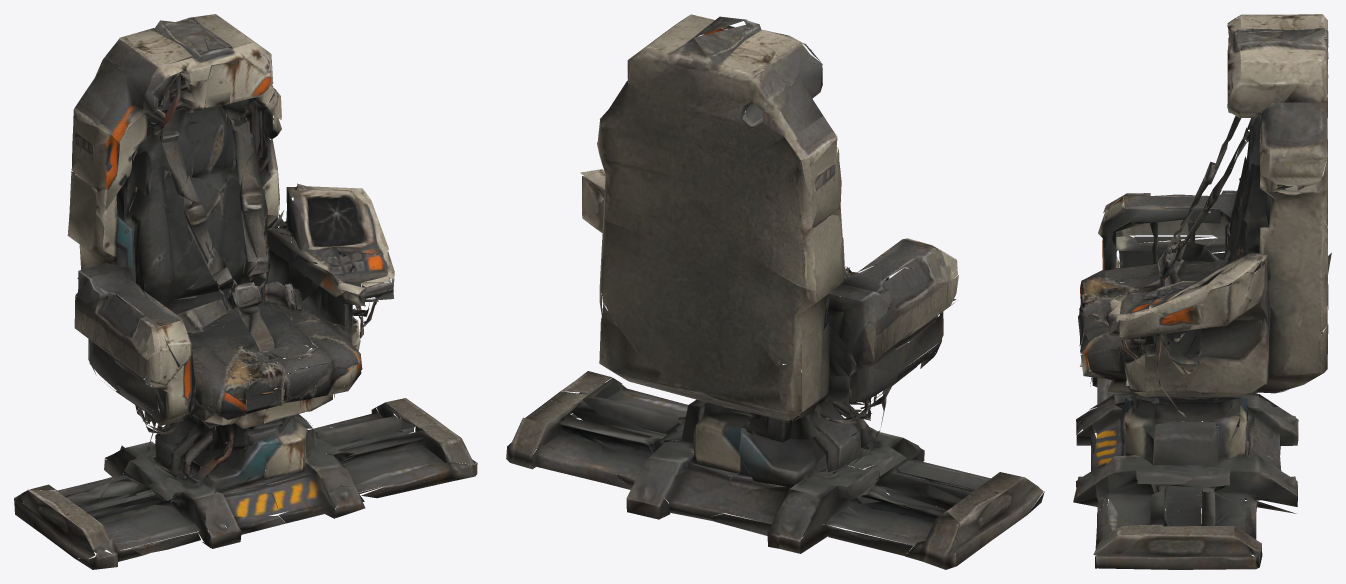
Rendered from ht_chair_cockpit.glb.
3 renders of one model, left to right at view 1: azimuth 30°, elevation 25°; view 2: azimuth 150°, elevation 25°; view 3: azimuth 270°, elevation 25°, orthographic. The views are drawn at different scales.
Parts seen in each view (by area): view 1: ht_chair_cockpit; view 2: ht_chair_cockpit; view 3: ht_chair_cockpit.
Boxes of the visible parts, <box> form: ht_chair_cockpit: <box>14,14,477,569</box>; ht_chair_cockpit: <box>506,14,1044,569</box>; ht_chair_cockpit: <box>1073,14,1331,569</box>.
Size of the model in its own units: 1.42 by 1.5 by 0.7922.
1 material, 1 textured.
